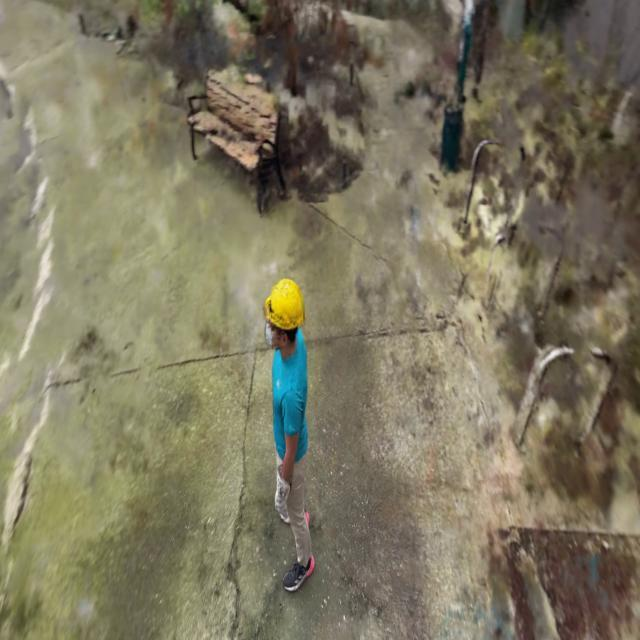gloves: (272, 460, 295, 522)
helmet: (266, 278, 306, 330)
